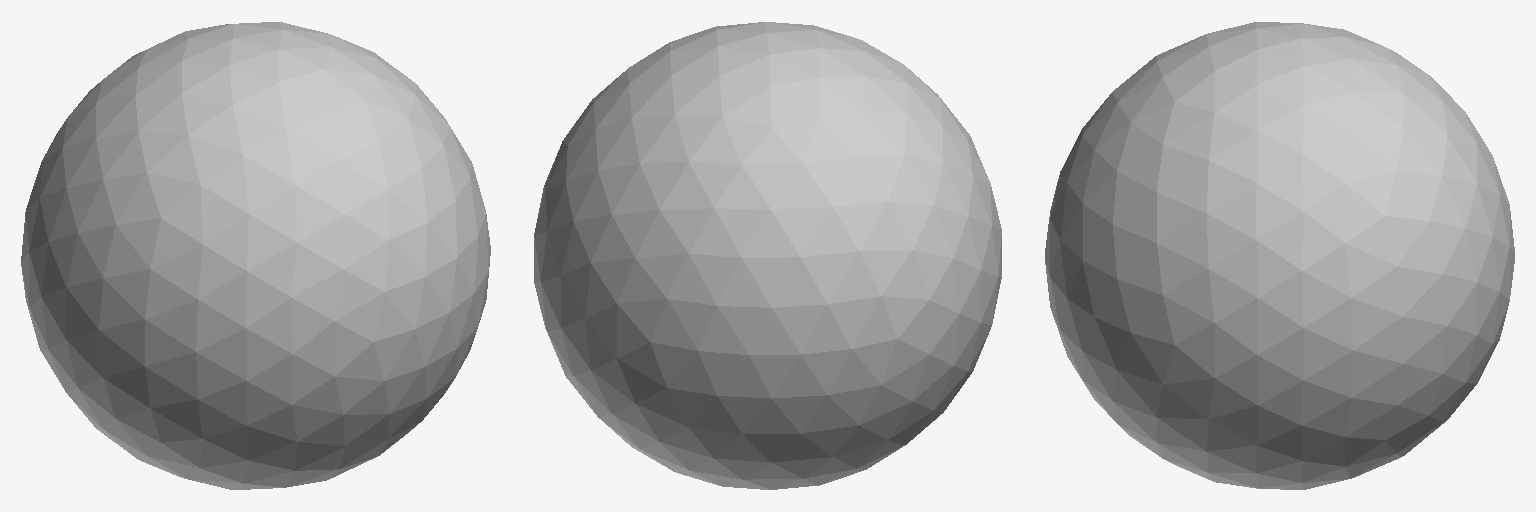
The picture shows the model from 3 angles: view 1: azimuth 30°, elevation 25°; view 2: azimuth 150°, elevation 25°; view 3: azimuth 270°, elevation 25°; orthographic projection.
Parts seen in each view (by area): view 1: GeoSphere01; view 2: GeoSphere01; view 3: GeoSphere01.
Part boxes in pixels (x1,y1,x2,y2): GeoSphere01: (21,22,490,489); GeoSphere01: (534,22,1001,489); GeoSphere01: (1045,22,1514,489).
Bounding box in the file's own units: 99.53 × 99.39 × 100.